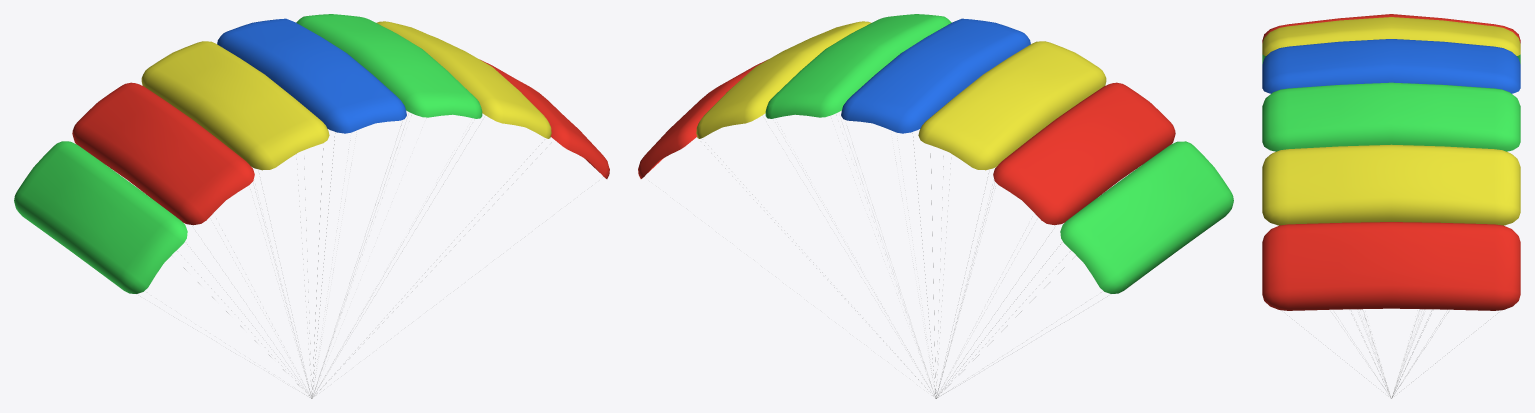
Rendered from parachute.glb.
3 views of the same model, side by side, from view 1: azimuth 30°, elevation 25°; view 2: azimuth 150°, elevation 25°; view 3: azimuth 270°, elevation 25° (orthographic).
Visible parts, largest first — view 1: Roundcube7_34, Roundcube5_32, Roundcube3_30, Roundcube1_28, Roundcube2_29, Roundcube4_31, Roundcube6_33; view 2: Roundcube7_34, Roundcube5_32, Roundcube3_30, Roundcube1_28, Roundcube2_29, Roundcube4_31, Roundcube6_33; view 3: Roundcube6_33, Roundcube4_31, Roundcube2_29, Roundcube1_28, Roundcube3_30, Roundcube5_32.
Part boxes in pixels (x1,y1,x2,y2): Roundcube7_34: (14, 141, 187, 293); Roundcube5_32: (72, 82, 254, 225); Roundcube3_30: (141, 41, 329, 170); Roundcube1_28: (217, 18, 406, 133); Roundcube2_29: (296, 14, 482, 118); Roundcube4_31: (376, 21, 551, 138); Roundcube6_33: (480, 59, 609, 178); Roundcube7_34: (1060, 141, 1233, 293); Roundcube5_32: (993, 82, 1175, 225); Roundcube3_30: (918, 41, 1106, 170); Roundcube1_28: (841, 18, 1030, 133); Roundcube2_29: (765, 14, 951, 118); Roundcube4_31: (696, 21, 871, 138); Roundcube6_33: (638, 59, 767, 178); Roundcube6_33: (1262, 222, 1520, 310); Roundcube4_31: (1262, 144, 1520, 225); Roundcube2_29: (1262, 82, 1520, 151); Roundcube1_28: (1262, 39, 1520, 93); Roundcube3_30: (1262, 17, 1520, 55); Roundcube5_32: (1262, 14, 1520, 43).
Bounding box in the file's own units: 10.06 × 6.72 × 4.5.
